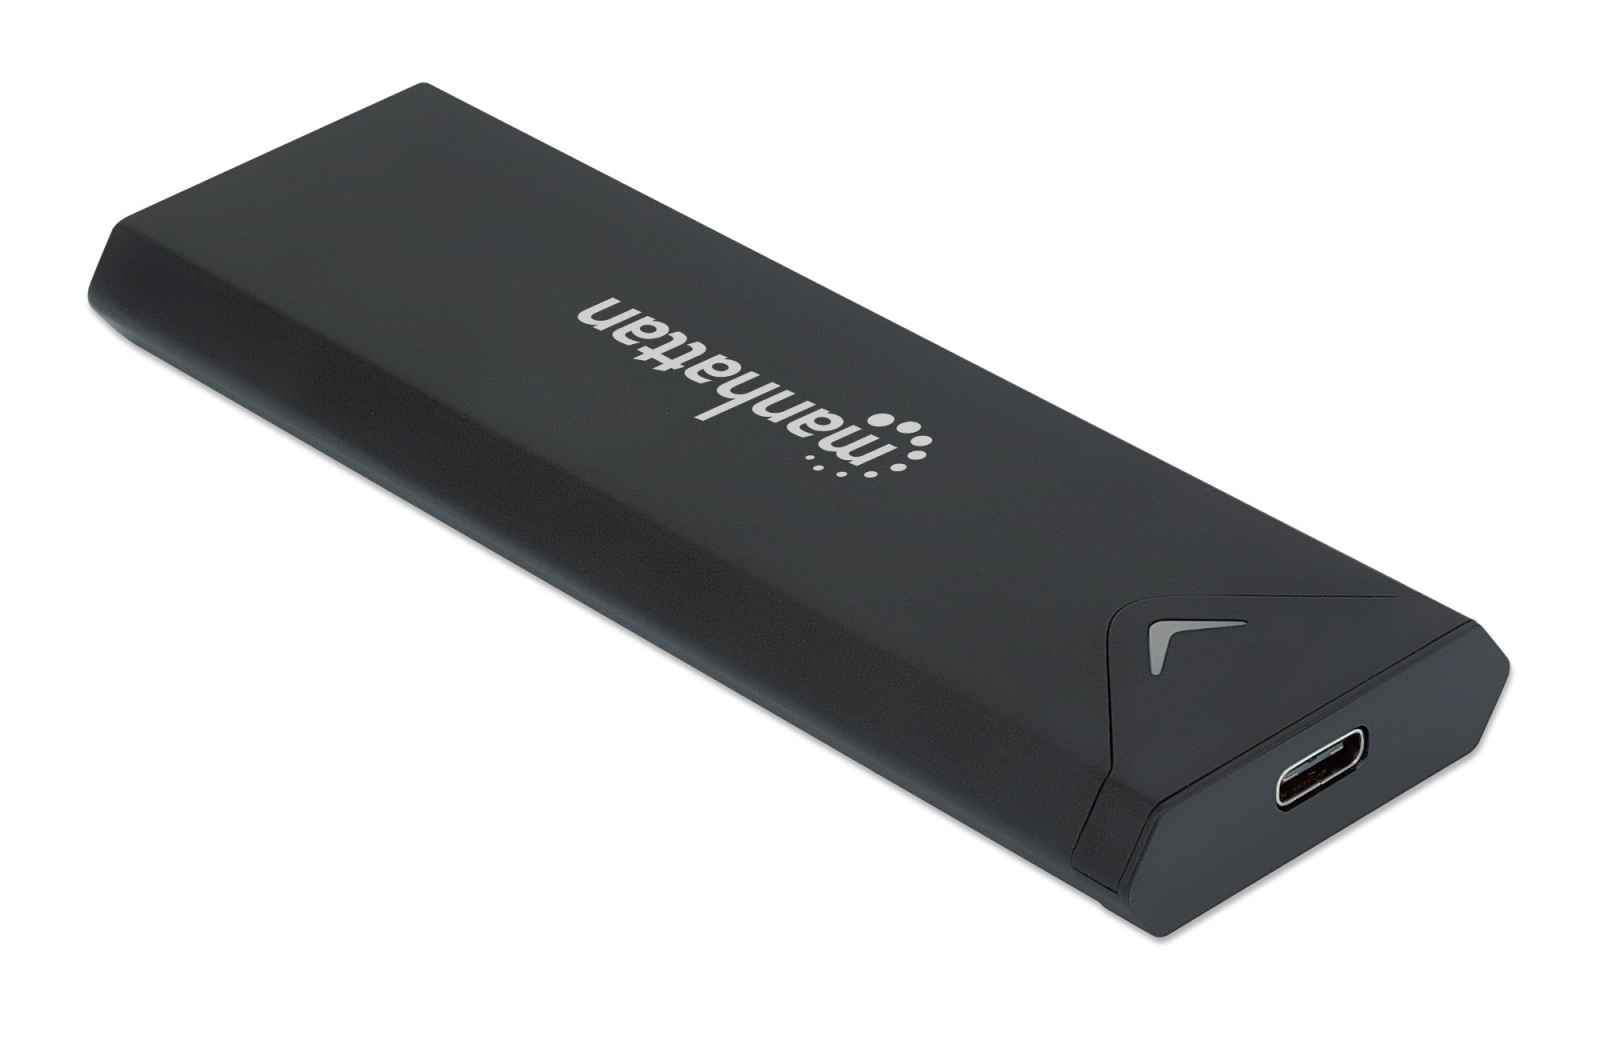M2 SSD Enclosure: (63, 62, 1553, 975)
